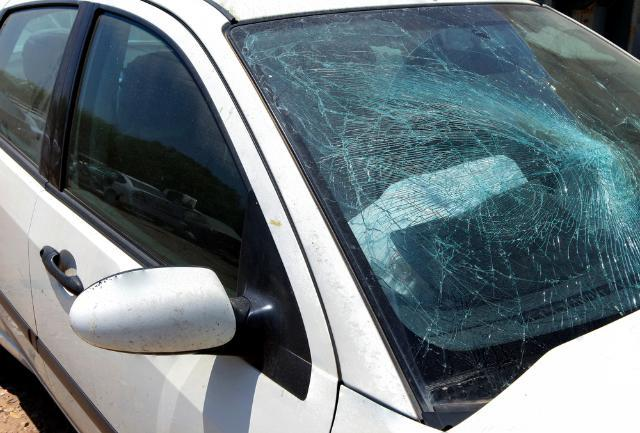glass shatter: (231, 4, 640, 405)
